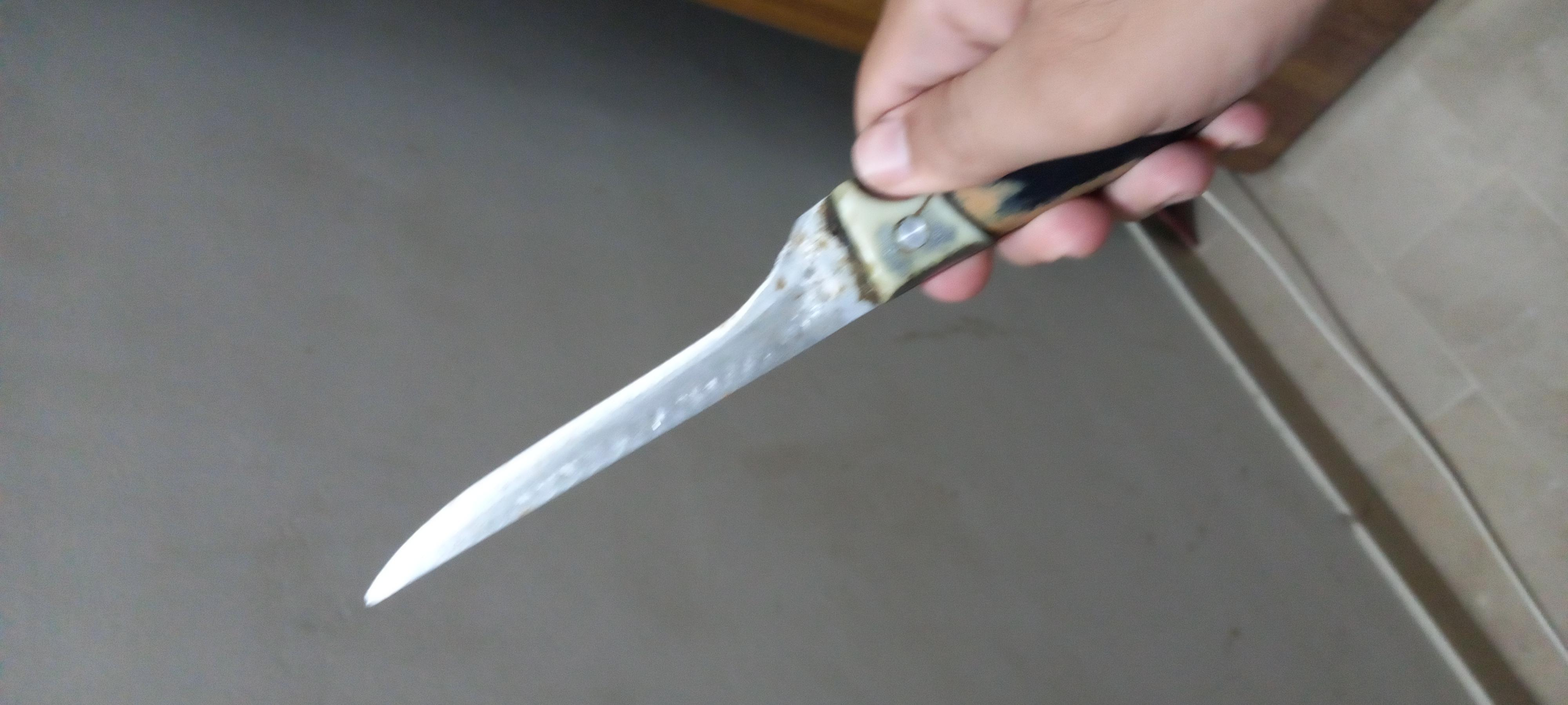knives: (203, 152, 1362, 530)
